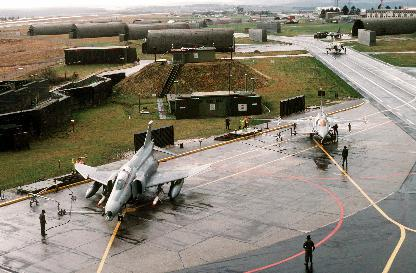F14: (276, 88, 368, 143), (324, 26, 348, 38)
F35: (73, 120, 211, 221), (316, 36, 354, 54)
